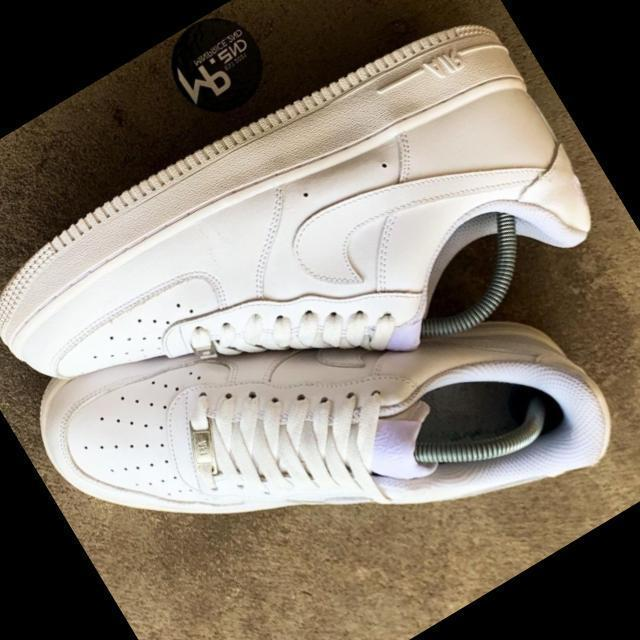nike original air force: (0, 0, 626, 544), (10, 150, 629, 640)
